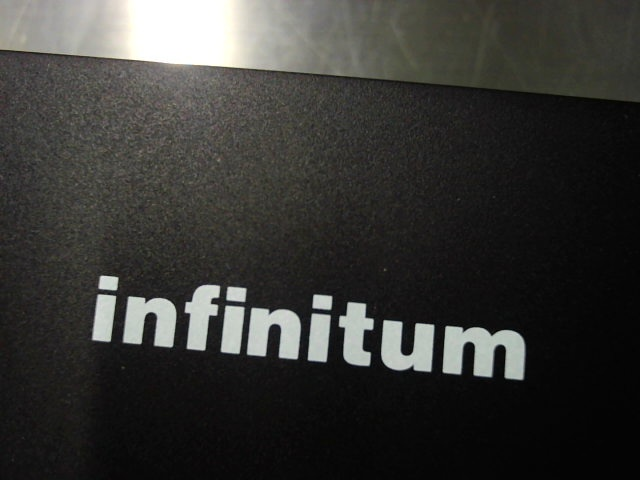BK_infinitum: (89, 268, 529, 392)
